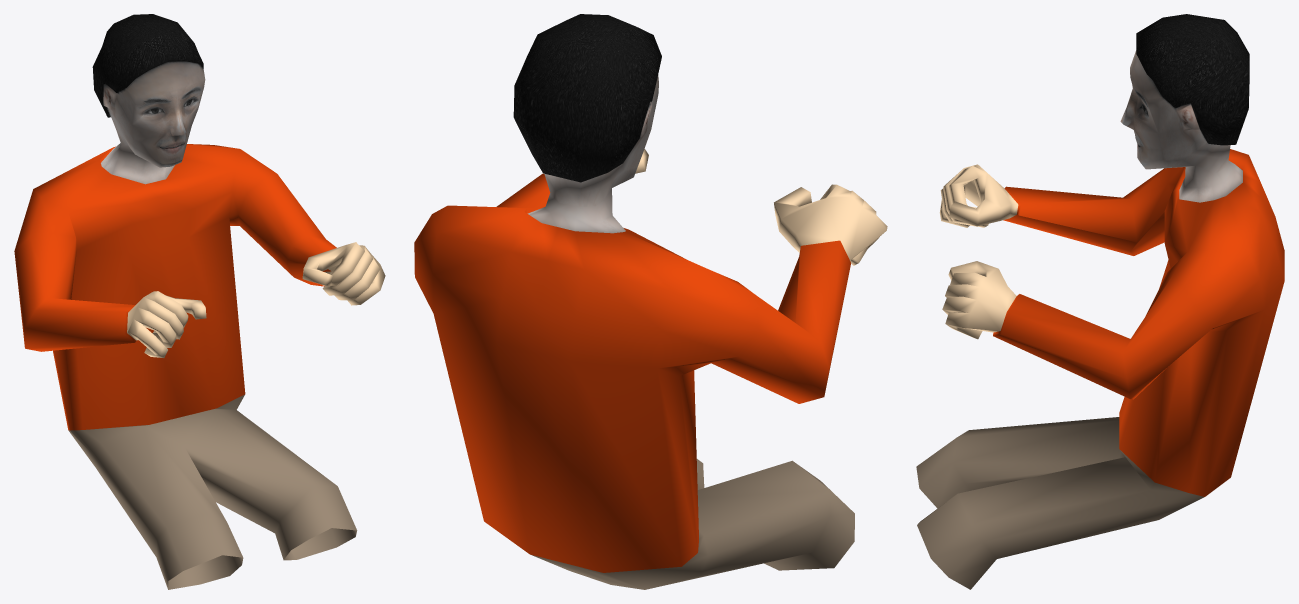
Rendered from Driver.fbx.
3 renders of one model, left to right at view 1: azimuth 30°, elevation 25°; view 2: azimuth 150°, elevation 25°; view 3: azimuth 270°, elevation 25°, orthographic. The views are drawn at different scales.
Parts seen in each view (by area): view 1: Driver; view 2: Driver; view 3: Driver.
Part boxes in pixels (bbox=[...]): Driver: bbox=[14, 14, 385, 589]; Driver: bbox=[414, 14, 887, 589]; Driver: bbox=[916, 14, 1284, 589].
Bounding box in the file's own units: 74.33 × 110 × 69.3.
